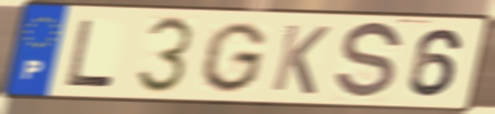3: (132, 14, 196, 97)
6: (405, 26, 464, 100)
G: (196, 20, 271, 95)
K: (268, 21, 334, 97)
L: (63, 17, 117, 89)
S: (331, 19, 406, 104)
